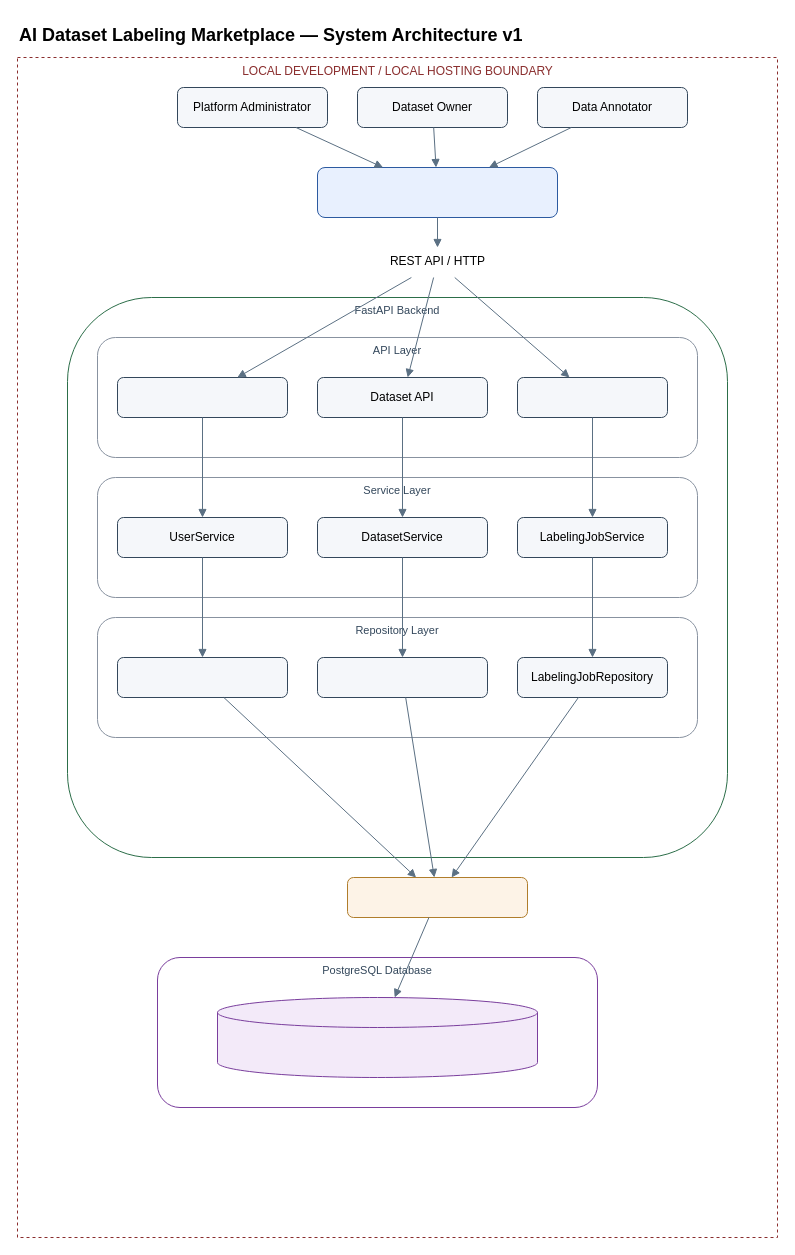
Some shapes in this 795 by 1255 pixel diagram are drawn without their labels. Each missing label, with the centre of its shape:
"Authentication API" belongs at [202,397].
"DatasetRepository" belongs at [402,677].
"Labeling Job API" belongs at [592,397].
"React + Vite Frontend (Browser Client)" belongs at [437,192].
"SQLAlchemy ORM" belongs at [437,897].
"UserRepository" belongs at [202,677].
"users | datasets | labeling_jobs job_assignments | reviews" belongs at [377,1037].
